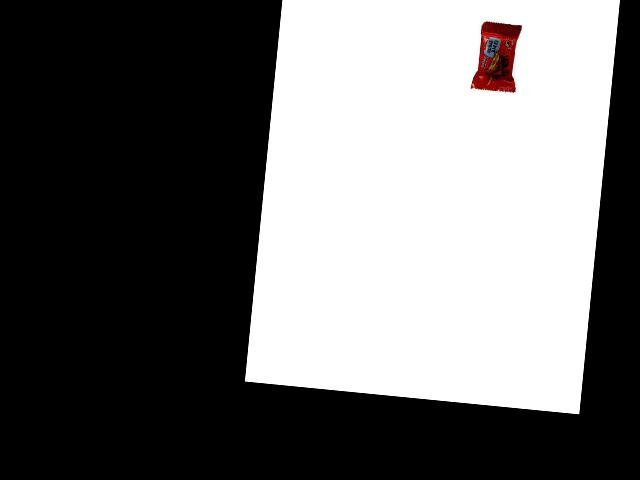chocolate: (466, 14, 521, 93)
